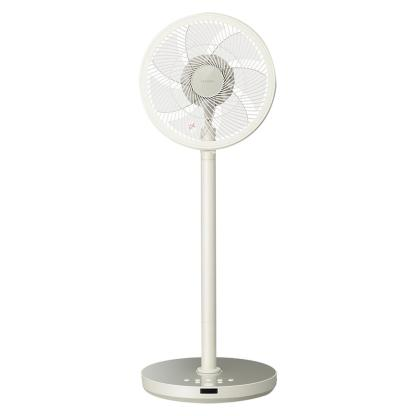fan: (134, 9, 289, 408)
